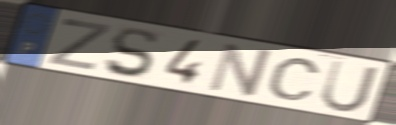4: (162, 38, 205, 87)
C: (265, 56, 323, 102)
N: (204, 40, 275, 99)
S: (102, 27, 159, 80)
U: (317, 58, 381, 114)
Z: (44, 17, 113, 73)
